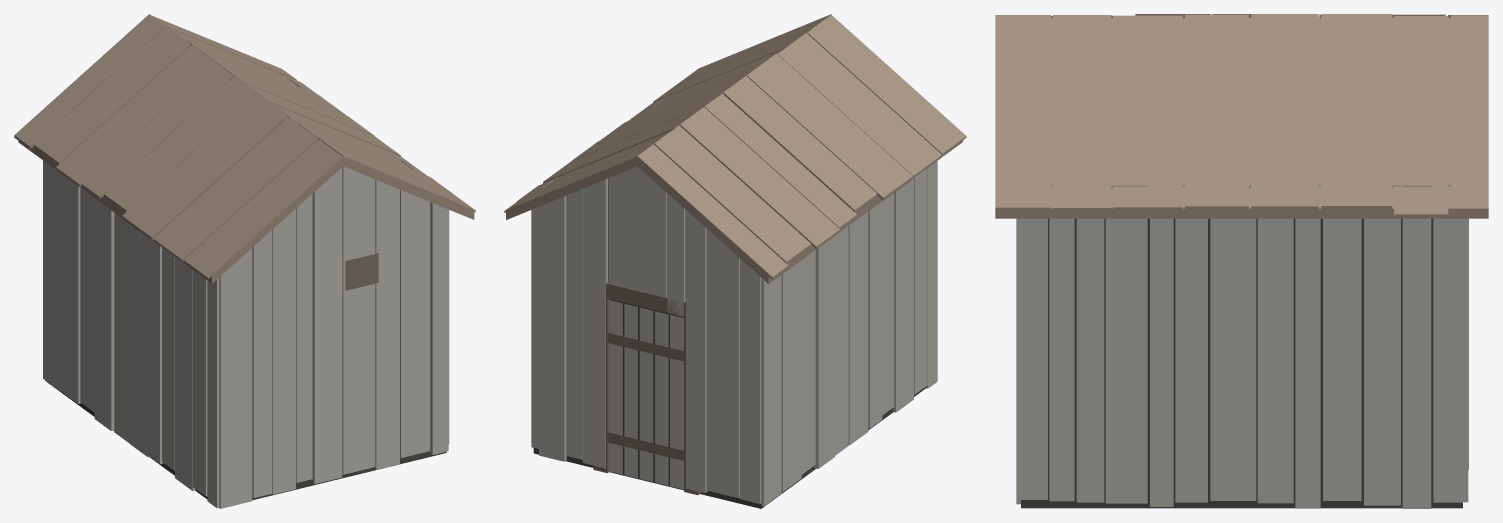
File: recon_1835_south_a5_044__inferred_1835.glb
The picture shows the model from 3 angles, left to right: view 1: azimuth 30°, elevation 25°; view 2: azimuth 150°, elevation 25°; view 3: azimuth 270°, elevation 25°; orthographic projection. The views are drawn at different scales.
Parts seen in each view (by area): view 1: recon_1835_south_a5_044__inferred_1835; view 2: recon_1835_south_a5_044__inferred_1835; view 3: recon_1835_south_a5_044__inferred_1835.
Part boxes in pixels (bbox=[...]): recon_1835_south_a5_044__inferred_1835: bbox=[14, 14, 475, 508]; recon_1835_south_a5_044__inferred_1835: bbox=[504, 14, 966, 508]; recon_1835_south_a5_044__inferred_1835: bbox=[995, 14, 1488, 508].
Size of the model in its own units: 3.07 by 3.59 by 3.78.
